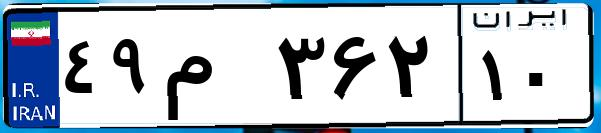0: (525, 38, 570, 115)
1: (475, 38, 525, 113)
2: (385, 28, 445, 110)
3: (270, 28, 330, 110)
4: (57, 26, 110, 100)
6: (330, 28, 385, 110)
9: (110, 28, 158, 98)
م: (158, 20, 270, 120)
